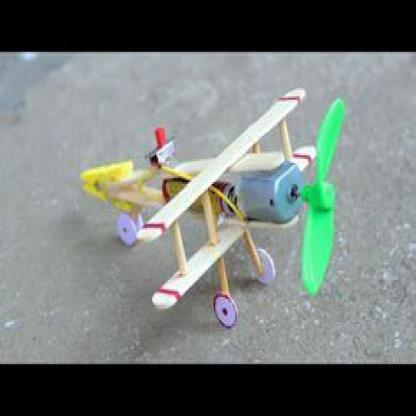CIV_Plane: (74, 82, 348, 336)
